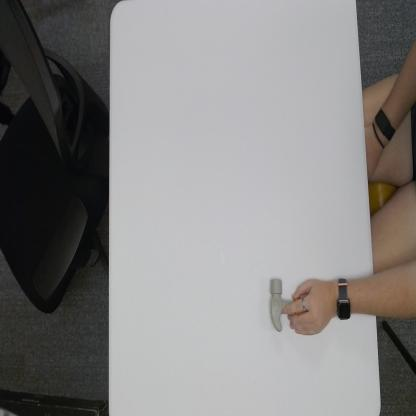Arm: (350, 274, 376, 319)
Hammer: (269, 276, 294, 332)
Hand: (287, 278, 332, 338)
